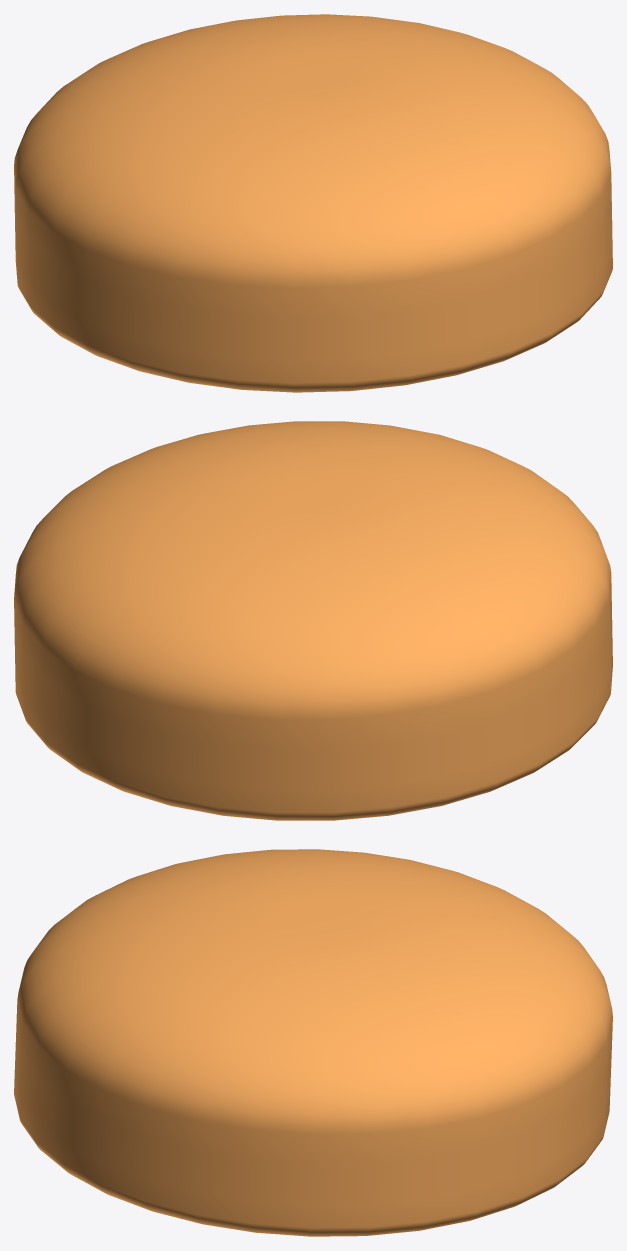
File: PanArriba.glb
3 views of the same model, one above another, from view 1: azimuth 30°, elevation 25°; view 2: azimuth 150°, elevation 25°; view 3: azimuth 270°, elevation 25° (orthographic).
Parts seen in each view (by area): view 1: Cylinder; view 2: Cylinder; view 3: Cylinder.
Part boxes in pixels (x1,y1,x2,y2): Cylinder: [14, 14, 612, 392]; Cylinder: [14, 421, 612, 820]; Cylinder: [14, 849, 612, 1236].
Bounding box in the file's own units: 8.09 × 3.28 × 8.13.
